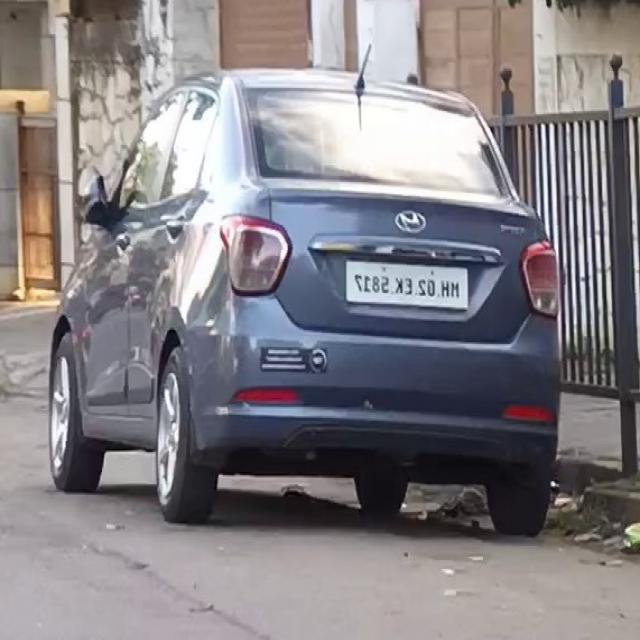license_plate: (338, 253, 472, 316)
